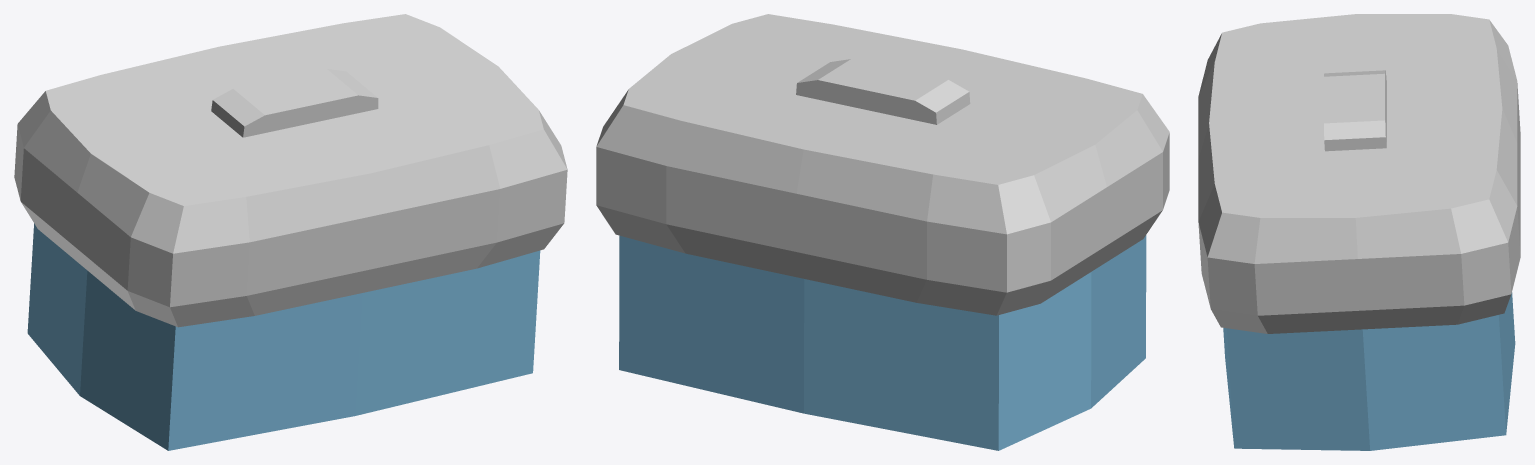
Rendered from largehealth.fbx.
3 renders of one model, left to right at view 1: azimuth 30°, elevation 25°; view 2: azimuth 150°, elevation 25°; view 3: azimuth 270°, elevation 25°, orthographic. The views are drawn at different scales.
Visible parts, largest first — view 1: Cube; view 2: Cube; view 3: Cube.
Part boxes in pixels (<box>): Cube: <box>14,14,567,450</box>; Cube: <box>596,14,1169,450</box>; Cube: <box>1198,14,1520,450</box>.
Size of the model in its own units: 331 by 206 by 222.
